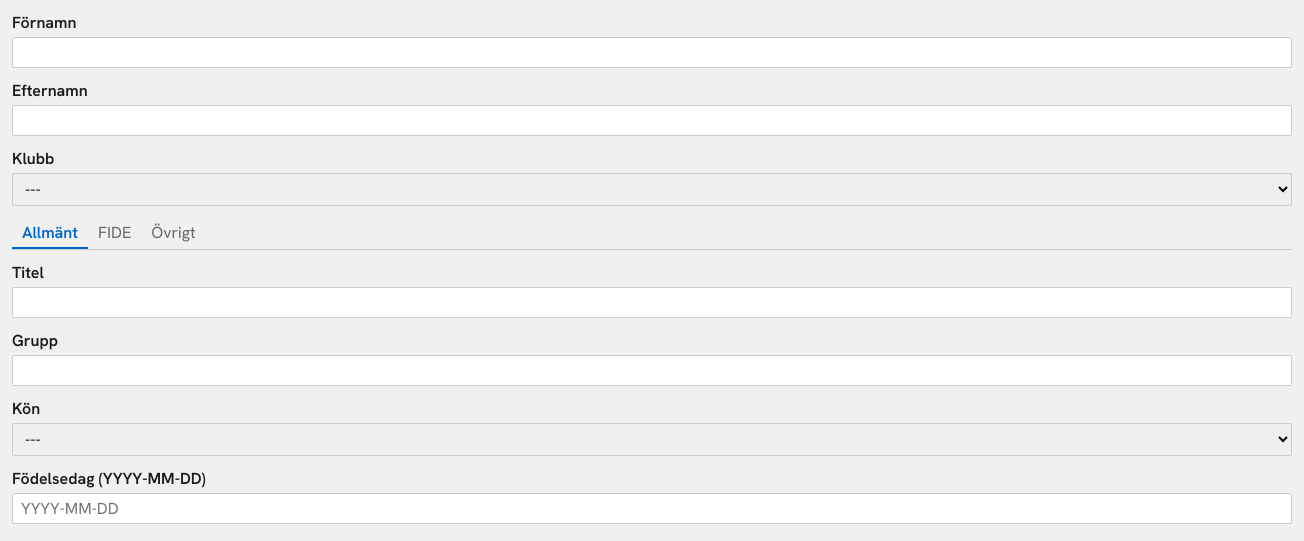
PlayerEditor sub-tabs › shows FIDE fields when FIDE tab is clicked
Click the button with test id "editor-tab-fide": (115, 234) [88, 218, 141, 249]
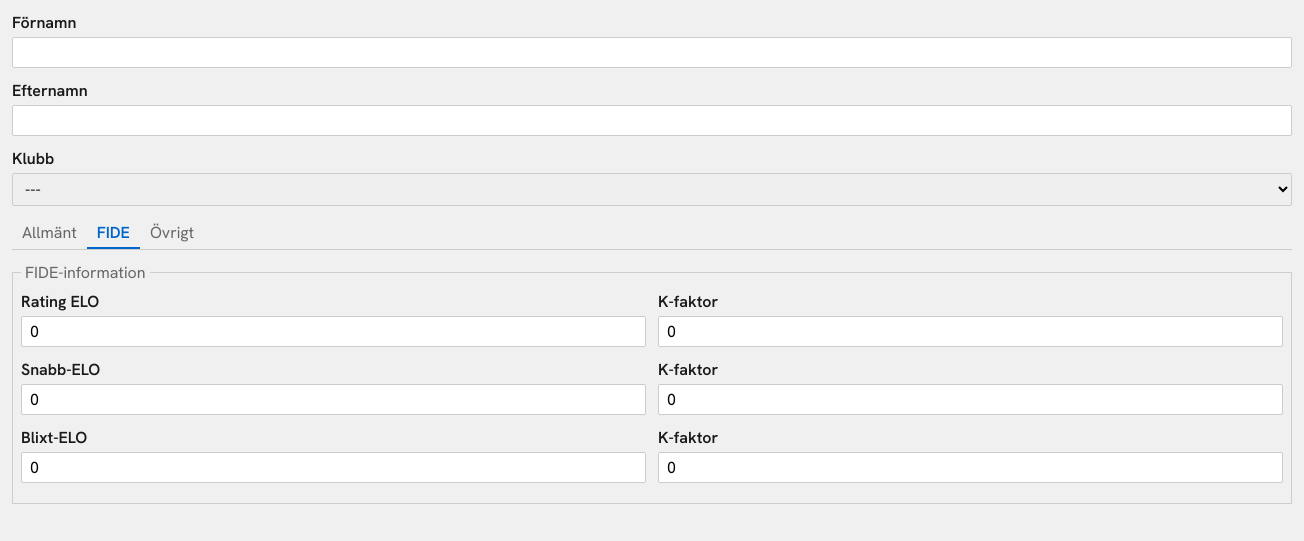
Now the text "FIDE-information" is shown, box [21, 262, 150, 283]
Now the text "Titel" is gone
